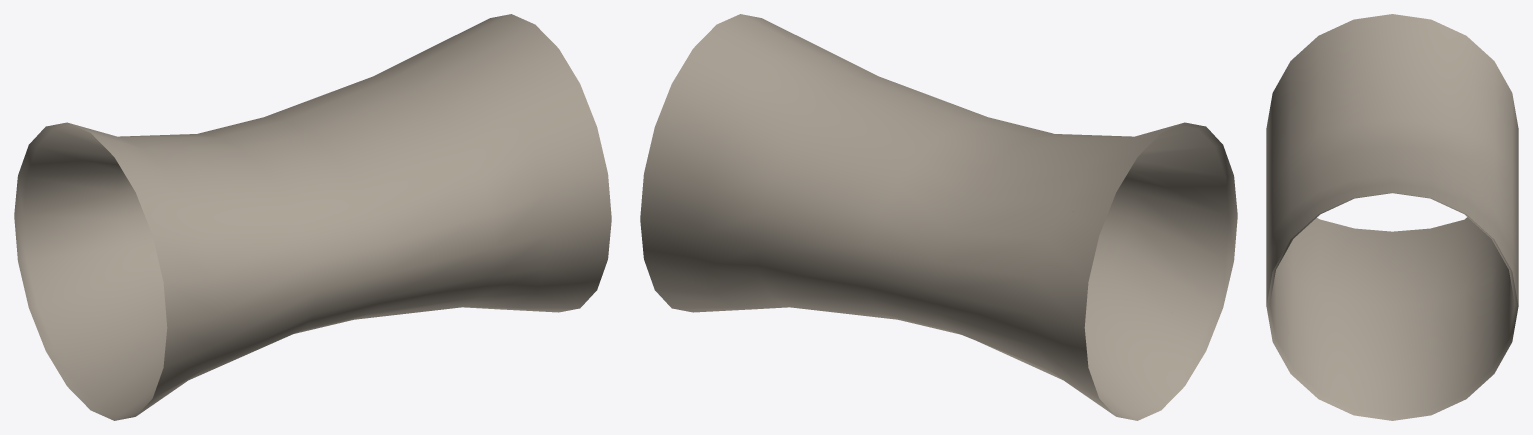
The model's file is Toilet roll card.fbx.
The picture shows the model from 3 angles, left to right: view 1: azimuth 30°, elevation 25°; view 2: azimuth 150°, elevation 25°; view 3: azimuth 270°, elevation 25°; orthographic projection. The views are drawn at different scales.
Visible parts, largest first — view 1: pPipe1; view 2: pPipe1; view 3: pPipe1.
Boxes of the visible parts, left/top/right/bottom form: pPipe1: left=14, top=14, right=611, bottom=420; pPipe1: left=640, top=14, right=1237, bottom=420; pPipe1: left=1266, top=14, right=1518, bottom=420.
Size of the model in its own units: 0.3741 by 0.2231 by 0.2231.
